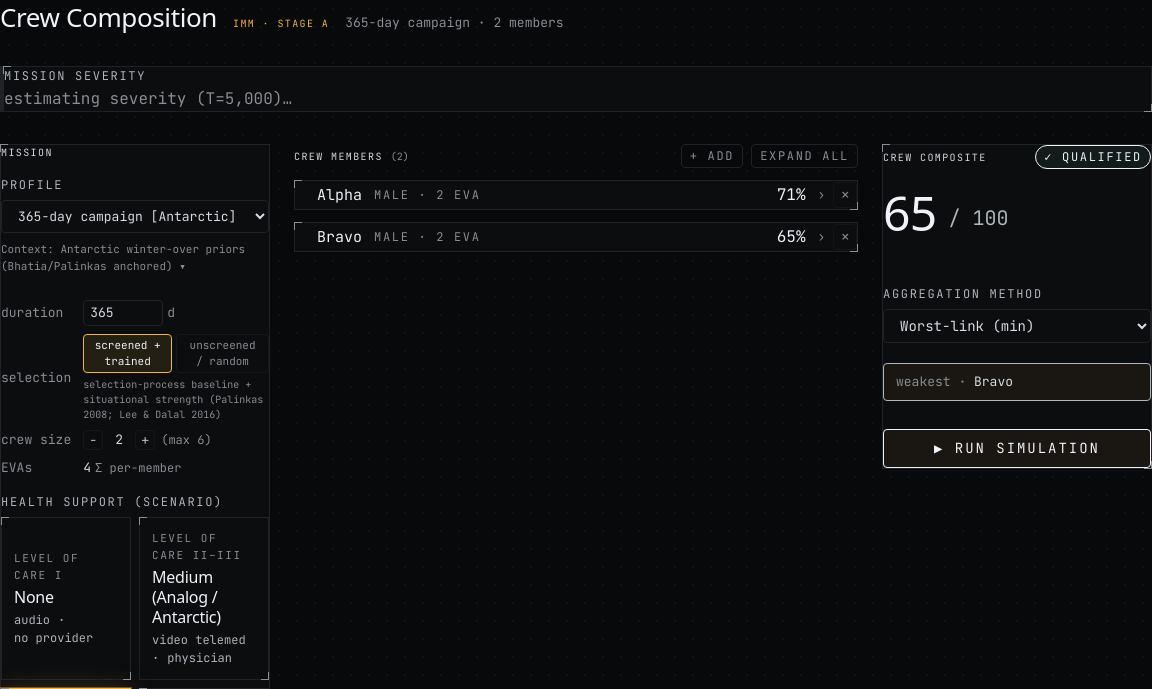
Scenario: CrewComposition · I6 analog Bayesian MCMC posterior › worker failure envelope → compute-error: panel shows compute-failure note with error text
The width and height of the screenshot is (1152, 689).
Click the button with aria-label "run IMM Monte Carlo simulation". click: [1017, 448]
box: [883, 428, 1151, 468]
(page scrolled)
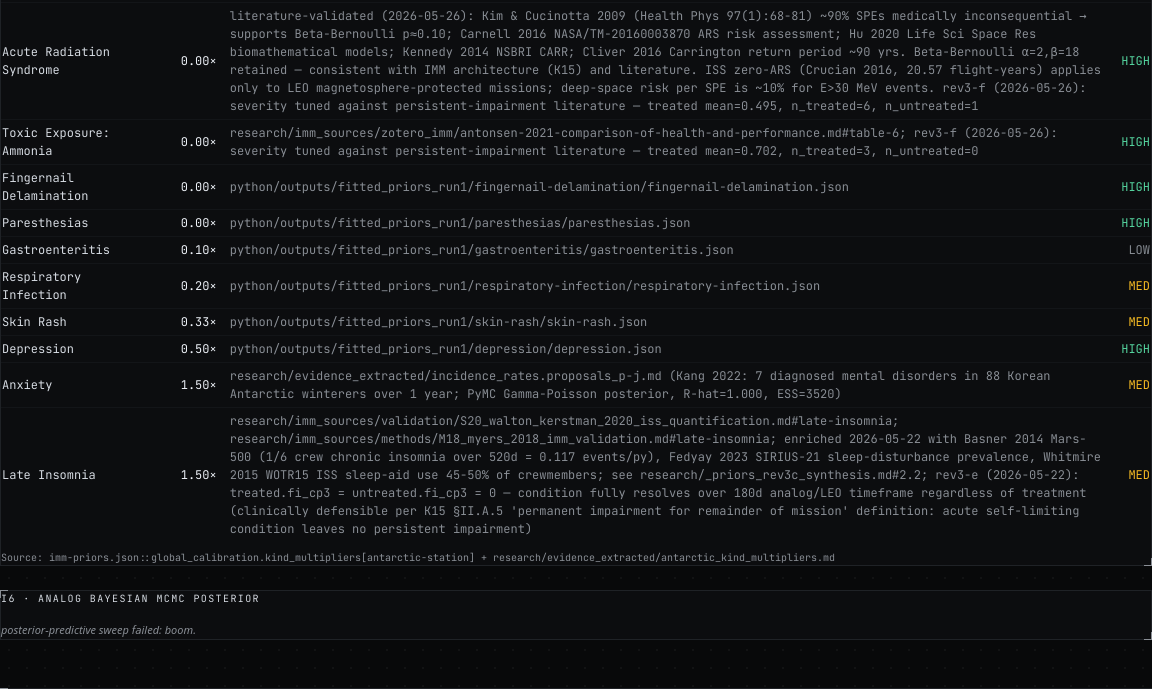
Expected: the element with test id "imm-i6-posterior" is shown, [0, 590, 1151, 640]
Expected: the text "posterior-predictive sweep failed: boom." is shown, [1, 622, 196, 637]
